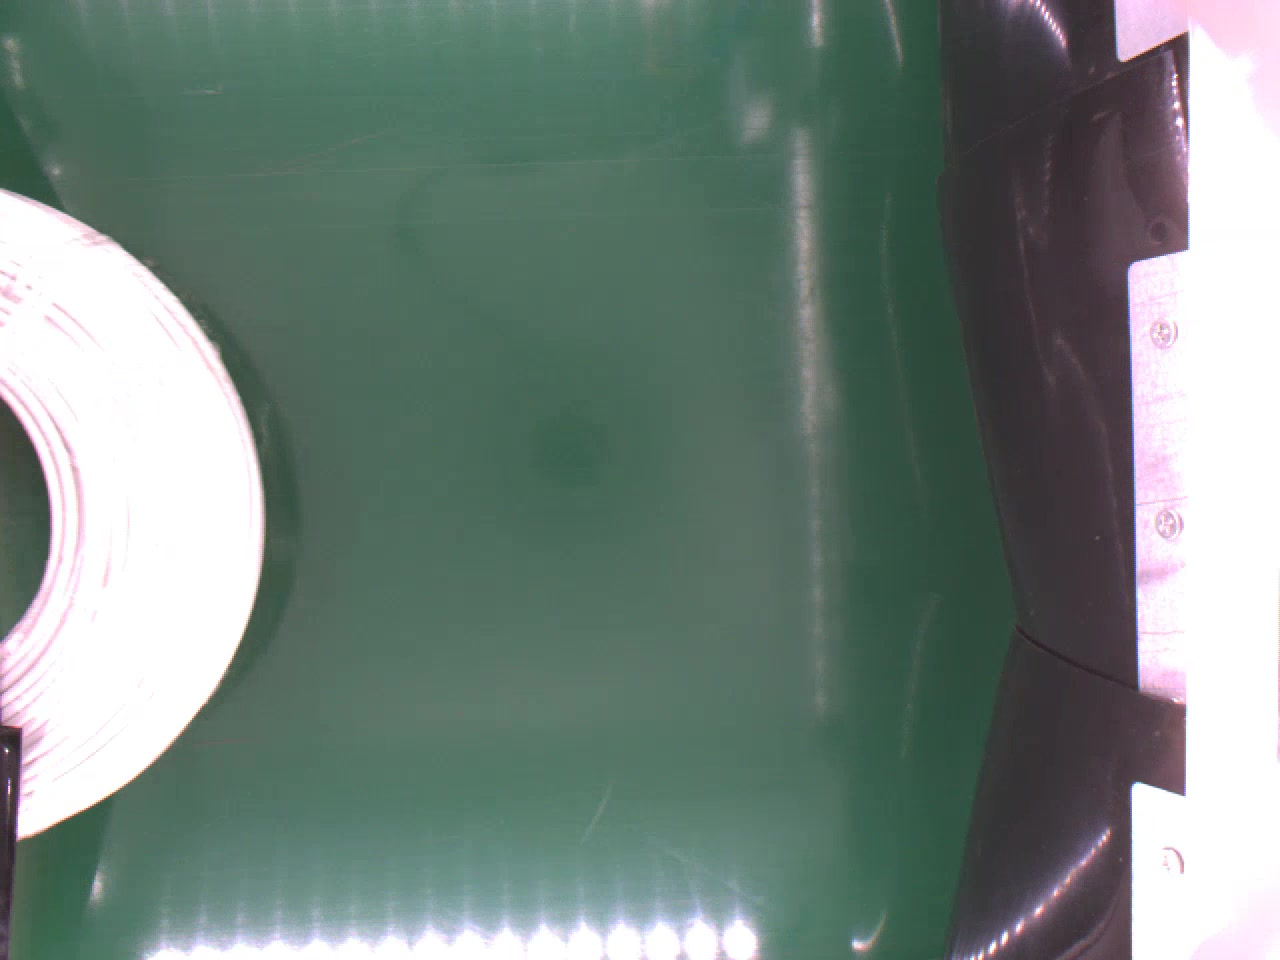white: (0, 187, 269, 845)
